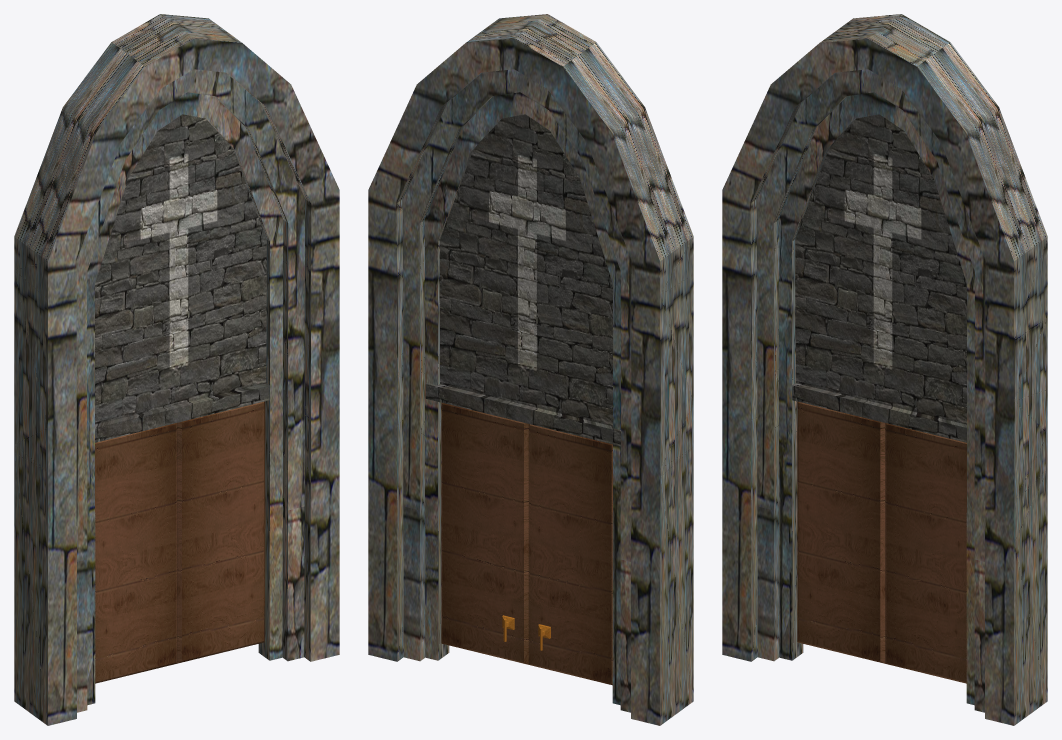
The model's file is breakableDoor.fbx.
The picture shows the model from 3 angles, left to right: view 1: azimuth 30°, elevation 25°; view 2: azimuth 150°, elevation 25°; view 3: azimuth 330°, elevation 25°; orthographic projection.
Visible parts, largest first — view 1: DoorArk003_Part_15, DoorArk003_Part_3, DoorArk003_Part_16, DoorArk003_Part_2, DoorArk003_Part_9, DoorArk003_Part_18, DoorArk003_Part_13, DoorArk003_Part_12, DoorArk003_Part_17, DoorArk003_Part_5, DoorArk003_Part_10, DoorArk003_Part_4 (+23 smaller); view 2: DoorArk003_Part_15, DoorArk003_Part_3, DoorArk003_Part_16, DoorArk003_Part_17, DoorArk003_Part_2, DoorArk003_Part_18, DoorArk003_Part_9, DoorArk003_Part_12, DoorArk003_Part_6, DoorArk003_Part_10, DoorArk003_Part_5, DoorArk003_Part_8 (+24 smaller); view 3: DoorArk003_Part_3, DoorArk003_Part_15, DoorArk003_Part_16, DoorArk003_Part_12, DoorArk003_Part_2, DoorArk003_Part_13, DoorArk003_Part_18, DoorArk003_Part_8, DoorArk003_Part_7, DoorArk003_Part_10, DoorArk003_Part_5, DoorArk003_Part_6 (+24 smaller).
Boxes of the visible parts, bbox=[...] form: DoorArk003_Part_15: bbox=[14, 453, 95, 725]; DoorArk003_Part_3: bbox=[14, 128, 218, 303]; DoorArk003_Part_16: bbox=[258, 443, 339, 661]; DoorArk003_Part_2: bbox=[102, 176, 243, 353]; DoorArk003_Part_9: bbox=[30, 94, 151, 227]; DoorArk003_Part_18: bbox=[207, 261, 339, 382]; DoorArk003_Part_13: bbox=[212, 86, 336, 195]; DoorArk003_Part_12: bbox=[71, 294, 169, 423]; DoorArk003_Part_17: bbox=[14, 271, 71, 444]; DoorArk003_Part_5: bbox=[188, 191, 278, 366]; DoorArk003_Part_10: bbox=[98, 347, 219, 441]; DoorArk003_Part_4: bbox=[216, 368, 339, 474]; DoorArk003_Part_15: bbox=[612, 447, 693, 725]; DoorArk003_Part_3: bbox=[486, 128, 693, 299]; DoorArk003_Part_16: bbox=[368, 423, 449, 661]; DoorArk003_Part_17: bbox=[621, 275, 693, 468]; DoorArk003_Part_2: bbox=[463, 176, 603, 354]; DoorArk003_Part_18: bbox=[368, 261, 500, 384]; DoorArk003_Part_9: bbox=[566, 70, 680, 219]; DoorArk003_Part_12: bbox=[535, 295, 620, 430]; DoorArk003_Part_6: bbox=[449, 14, 548, 141]; DoorArk003_Part_10: bbox=[487, 349, 605, 442]; DoorArk003_Part_5: bbox=[433, 192, 517, 367]; DoorArk003_Part_8: bbox=[368, 190, 456, 270]; DoorArk003_Part_3: bbox=[722, 121, 922, 256]; DoorArk003_Part_15: bbox=[722, 401, 803, 661]; DoorArk003_Part_16: bbox=[966, 470, 1047, 725]; DoorArk003_Part_12: bbox=[745, 242, 873, 383]; DoorArk003_Part_2: bbox=[806, 195, 947, 357]; DoorArk003_Part_13: bbox=[916, 103, 1017, 253]; DoorArk003_Part_18: bbox=[911, 309, 1047, 403]; DoorArk003_Part_8: bbox=[953, 231, 1047, 340]; DoorArk003_Part_7: bbox=[892, 40, 995, 141]; DoorArk003_Part_10: bbox=[797, 343, 921, 429]; DoorArk003_Part_5: bbox=[892, 223, 974, 380]; DoorArk003_Part_6: bbox=[855, 20, 946, 157].
Bounding box in the file's own units: 7.5 × 16 × 1.5.
Materials: 5 (4 with a texture image).
